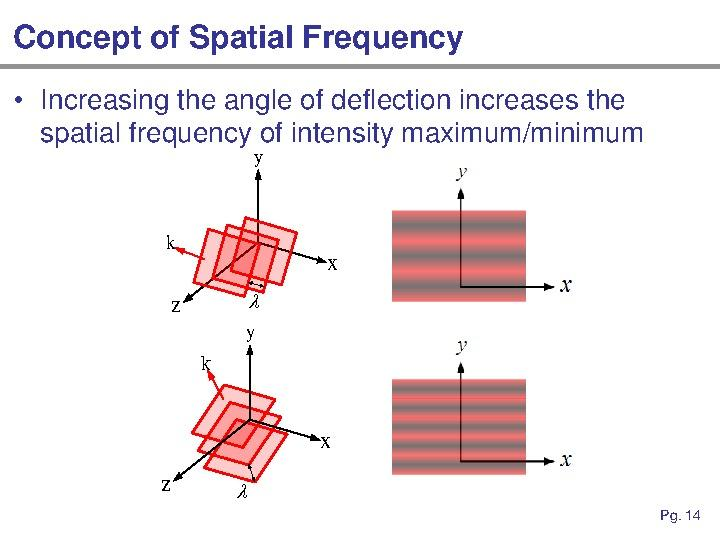paragraph: (32, 80, 652, 172)
title: (7, 20, 466, 60)
